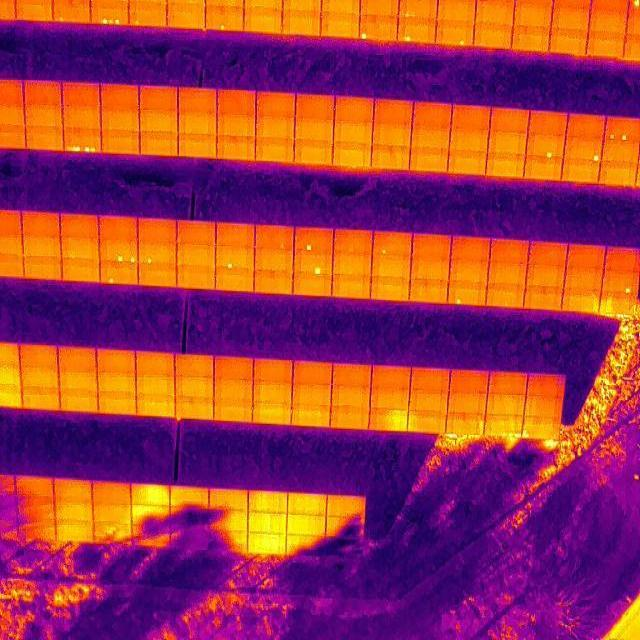Cell: (447, 280, 487, 306), (437, 19, 475, 46), (396, 16, 435, 42), (206, 5, 244, 31), (293, 228, 334, 252), (526, 134, 566, 158), (564, 138, 604, 162), (215, 246, 255, 270), (357, 14, 397, 38), (374, 232, 410, 258), (294, 250, 332, 274), (129, 4, 168, 26), (256, 226, 293, 249), (53, 2, 93, 22), (100, 264, 137, 285), (603, 270, 638, 292), (139, 244, 176, 264)
Cell-Multi: (99, 238, 140, 262), (64, 128, 103, 152), (603, 118, 639, 142), (89, 4, 128, 24), (485, 415, 521, 436)
No-Anomaly: (489, 106, 530, 134), (585, 29, 627, 56), (214, 396, 254, 424), (61, 81, 101, 108), (410, 124, 451, 150), (242, 6, 283, 32), (139, 86, 180, 112), (407, 148, 451, 172), (485, 154, 529, 178), (320, 12, 360, 38), (451, 104, 491, 130), (332, 142, 371, 168), (282, 8, 321, 34), (57, 368, 99, 392), (588, 5, 628, 30), (527, 372, 567, 397), (174, 395, 214, 420), (252, 400, 292, 425), (23, 128, 64, 152), (176, 132, 217, 156), (251, 358, 292, 382), (410, 366, 451, 390), (413, 102, 454, 126), (62, 104, 103, 128), (333, 230, 372, 255), (333, 120, 373, 144), (372, 122, 412, 146), (449, 128, 489, 152), (100, 130, 140, 154), (139, 131, 179, 155), (488, 131, 528, 155), (217, 135, 257, 159), (551, 4, 591, 28), (215, 222, 255, 246), (528, 242, 568, 266), (293, 360, 333, 384), (295, 94, 335, 118), (473, 23, 511, 48), (293, 141, 334, 164), (448, 150, 487, 174), (98, 215, 137, 239), (138, 218, 177, 242), (412, 235, 451, 259), (61, 258, 100, 282), (292, 272, 331, 296), (332, 275, 371, 299), (548, 28, 587, 52), (217, 90, 256, 114), (24, 105, 63, 129), (369, 148, 411, 170), (563, 266, 603, 289), (136, 351, 176, 374), (23, 81, 63, 104), (166, 5, 204, 29), (490, 238, 528, 262), (568, 245, 606, 269), (138, 264, 176, 288), (372, 276, 410, 300), (487, 285, 525, 309), (512, 26, 550, 50), (101, 84, 139, 108), (21, 235, 62, 257), (450, 238, 491, 260), (174, 375, 215, 397), (178, 220, 214, 245), (256, 116, 295, 139), (254, 271, 293, 294), (20, 366, 59, 389), (253, 138, 293, 160), (332, 254, 372, 276), (334, 99, 374, 121), (23, 256, 61, 279), (179, 88, 217, 111), (294, 120, 335, 141), (22, 213, 61, 235), (177, 246, 216, 268), (487, 263, 526, 285), (450, 370, 489, 392), (489, 373, 528, 395), (136, 394, 175, 416), (475, 0, 514, 22), (256, 93, 295, 115), (101, 108, 140, 130), (178, 113, 217, 135), (371, 367, 411, 388), (216, 114, 256, 135), (372, 256, 410, 278), (97, 348, 135, 370), (213, 358, 251, 380), (524, 394, 562, 416), (374, 100, 412, 122), (529, 113, 567, 135), (252, 382, 293, 402), (247, 512, 288, 532), (524, 265, 563, 286), (214, 270, 253, 291), (19, 344, 58, 365), (58, 347, 97, 368), (408, 389, 447, 410), (486, 394, 525, 415), (170, 485, 209, 506), (16, 0, 55, 21), (139, 110, 178, 131), (514, 4, 551, 26), (61, 212, 98, 234), (93, 502, 130, 524), (562, 162, 602, 182), (135, 374, 175, 394), (214, 379, 254, 399), (20, 390, 60, 410), (130, 484, 170, 504), (288, 494, 328, 514), (247, 532, 287, 552), (598, 164, 636, 185), (410, 280, 448, 301), (331, 387, 369, 408), (292, 407, 330, 428), (407, 410, 445, 431), (55, 479, 93, 500), (93, 482, 131, 503), (570, 115, 603, 139), (62, 236, 98, 258), (525, 159, 564, 179), (410, 259, 449, 279), (97, 371, 136, 391), (330, 408, 369, 428), (368, 408, 407, 428), (248, 492, 287, 512), (255, 250, 292, 271), (327, 495, 364, 516), (527, 288, 562, 310), (600, 142, 638, 162), (175, 355, 213, 375), (370, 388, 408, 408), (55, 501, 93, 521), (288, 515, 326, 535), (606, 246, 639, 269), (334, 365, 370, 386), (450, 261, 489, 280), (209, 490, 248, 509), (177, 268, 214, 288), (562, 288, 599, 308), (294, 385, 331, 405), (99, 392, 136, 412), (448, 393, 486, 412), (438, 0, 475, 19), (59, 391, 98, 409), (58, 522, 92, 542)
Shadowing: (286, 532, 326, 556), (326, 515, 364, 539), (210, 528, 248, 552), (170, 526, 211, 548), (16, 476, 55, 499), (208, 510, 248, 532), (131, 525, 171, 547), (93, 523, 132, 545), (131, 504, 171, 525), (169, 507, 208, 528), (17, 499, 54, 519), (20, 520, 57, 539)
Unclassified: (522, 415, 560, 439), (445, 413, 485, 435)
